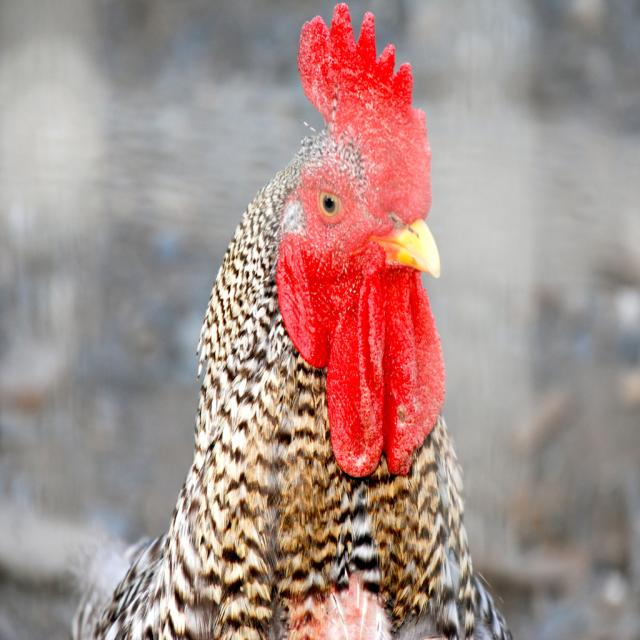Chicken: (96, 24, 502, 640)
